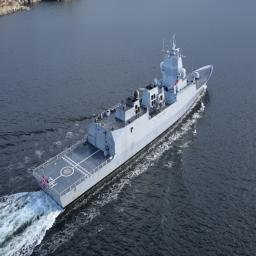Fragata: (32, 30, 216, 219)
